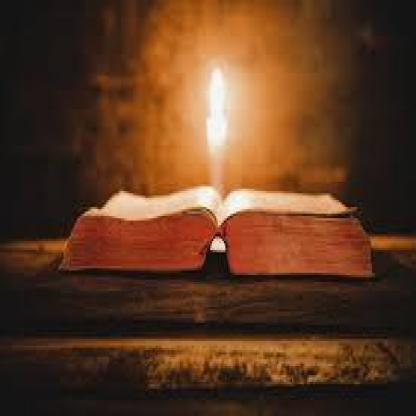fire: (196, 58, 231, 134)
